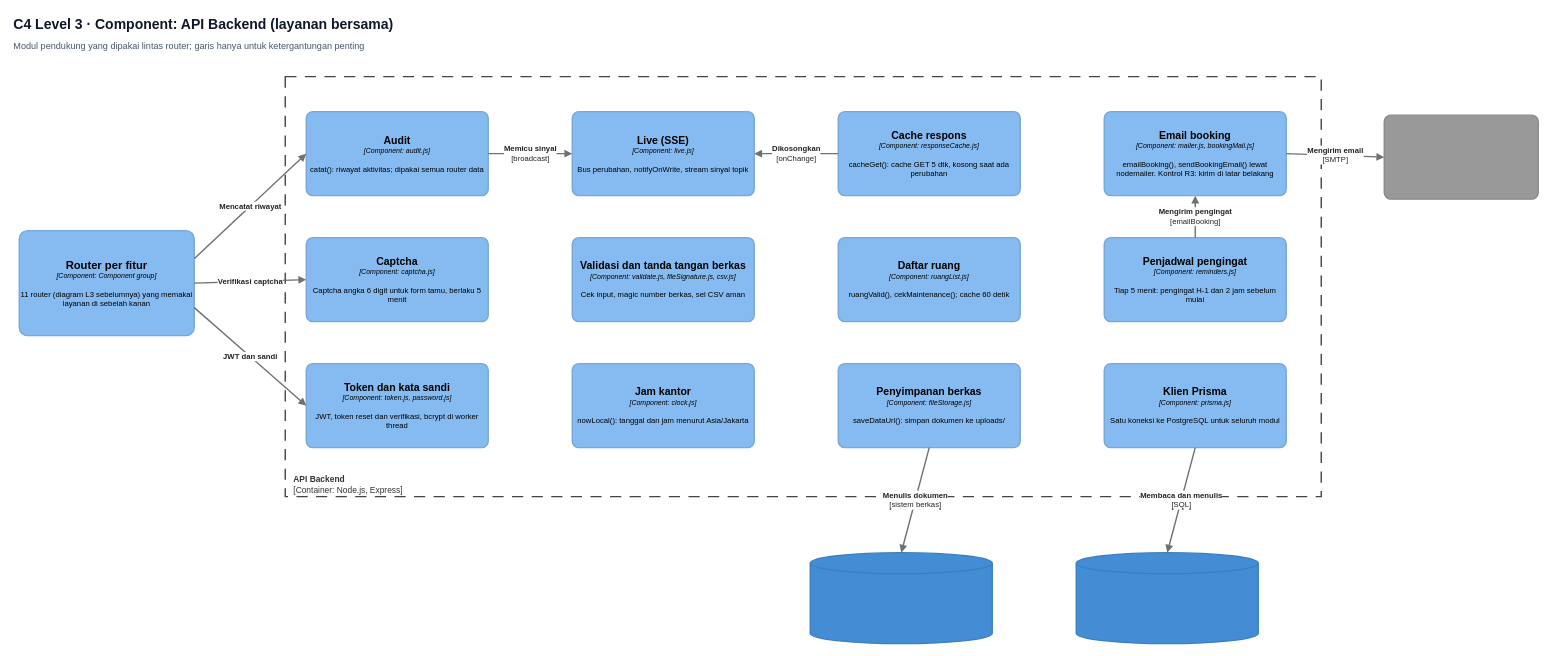
Image size: 1551x656. Some labels were removed from this diagram. The centre of each missing label's shape, as x and y in pixels:
"Database [Container: PostgreSQL]" goes at (x=1167, y=598).
"Email (SMTP) [Software System (eksternal)] Gmail atau email kantor" goes at (x=1461, y=157).
"Penyimpanan Berkas [Container: disk lokal] uploads/" goes at (x=901, y=598).
